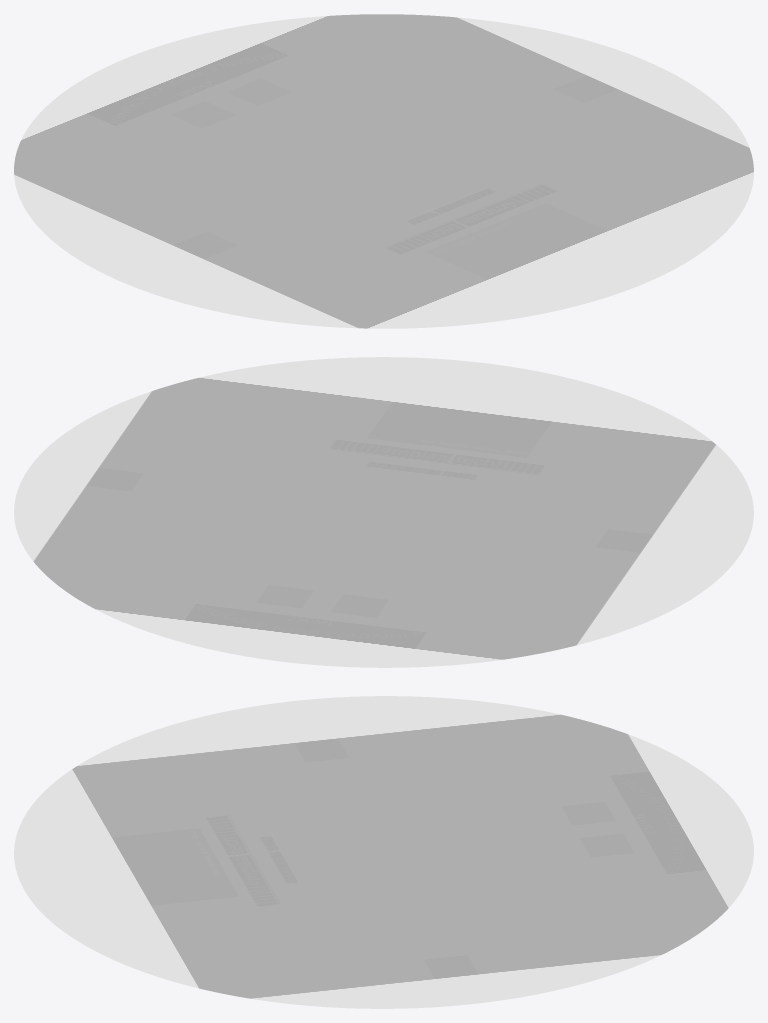
The model's file is 3.250ml round.glb.
3 renders of one model, top to bottom at view 1: azimuth 30°, elevation 25°; view 2: azimuth 150°, elevation 25°; view 3: azimuth 270°, elevation 25°, orthographic.
Visible parts, largest first — view 1: tran.001; view 2: tran.001; view 3: tran.001.
Boxes of the visible parts, x1,y1,x2,y2 form: tran.001: (14, 14, 753, 328); tran.001: (14, 357, 753, 667); tran.001: (14, 696, 753, 1008).
Bounding box in the file's own units: 0.0878 × 0.000284 × 0.0878.
1 material, 1 textured.
